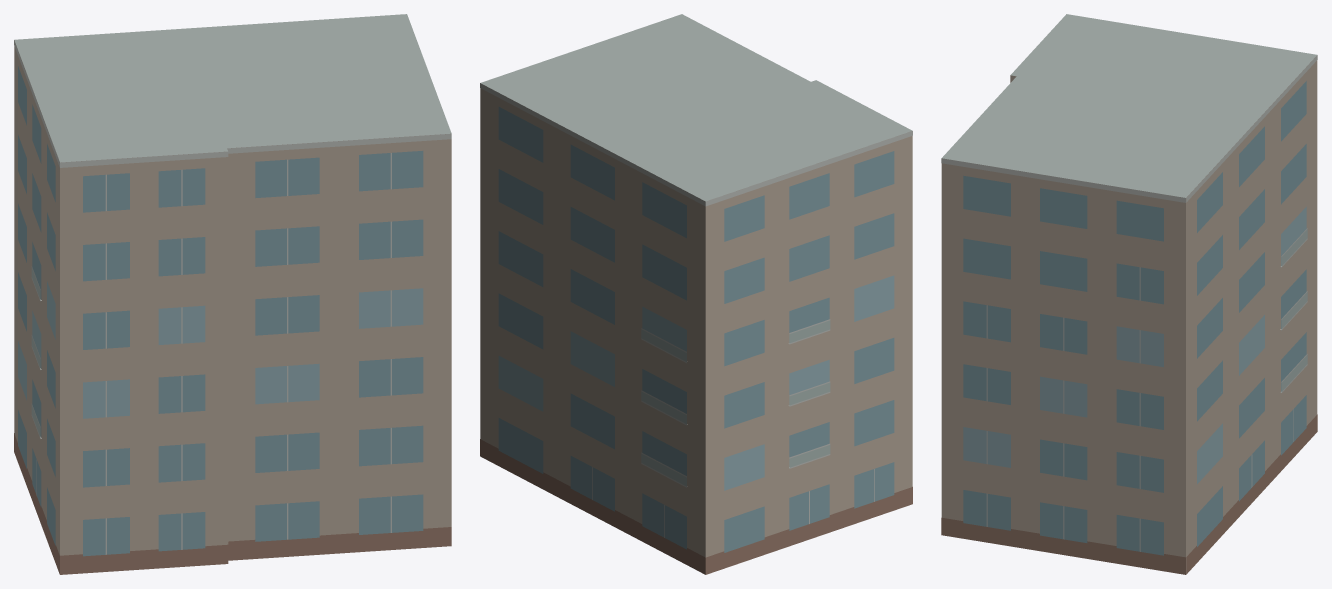
Rendered from survey-upis-32626684.glb.
The picture shows the model from 3 angles, left to right: view 1: azimuth 30°, elevation 25°; view 2: azimuth 150°, elevation 25°; view 3: azimuth 270°, elevation 25°; orthographic projection. The views are drawn at different scales.
Visible parts, largest first — view 1: survey-upis-32626684.tmp; view 2: survey-upis-32626684.tmp; view 3: survey-upis-32626684.tmp.
Part boxes in pixels (x1=…): survey-upis-32626684.tmp: x1=14, y1=14, x2=451, y2=574; survey-upis-32626684.tmp: x1=480, y1=14, x2=912, y2=574; survey-upis-32626684.tmp: x1=941, y1=14, x2=1317, y2=574.
Bounding box in the file's own units: 19.16 × 18.3 × 16.55.
